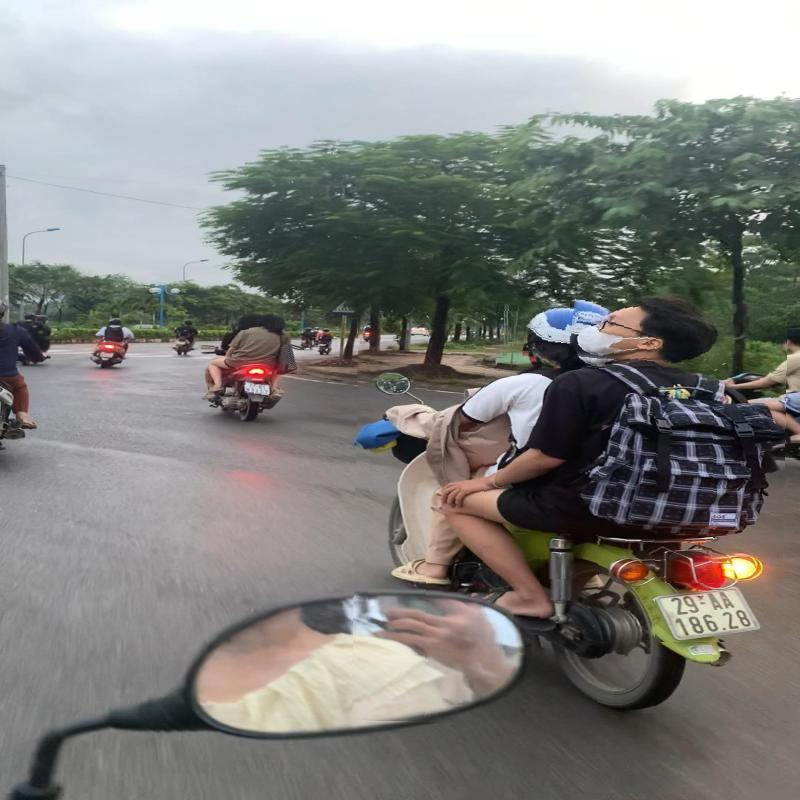helmet: (524, 302, 612, 365)
licenseplate: (655, 583, 764, 642), (242, 381, 273, 397)
motorcyclist: (353, 299, 786, 726)
nohelmet: (570, 286, 727, 368), (256, 313, 288, 332), (232, 312, 265, 330)
